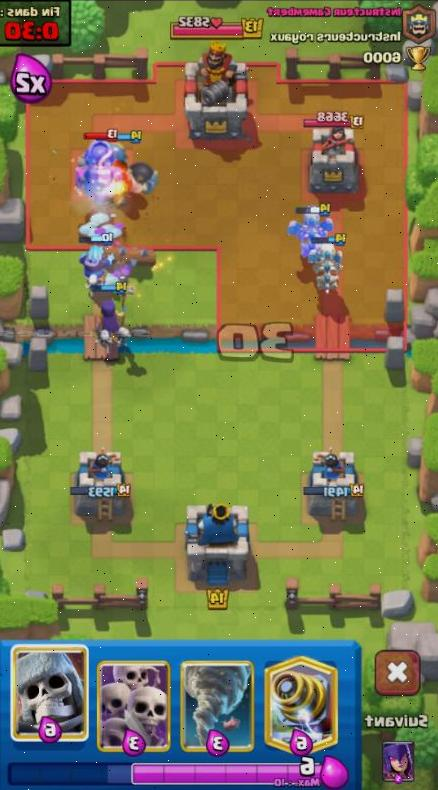enemy_inferno_dragon: (67, 126, 128, 201)
player_giant_skeleton: (110, 122, 164, 195)
player_ice_wizard: (77, 235, 115, 279)
player_log: (105, 242, 176, 280)
player_skeleton_dragon: (284, 200, 341, 259), (304, 236, 352, 293)
player_skeletons: (113, 324, 137, 344), (93, 330, 117, 350)
player_witch: (86, 280, 136, 353)
